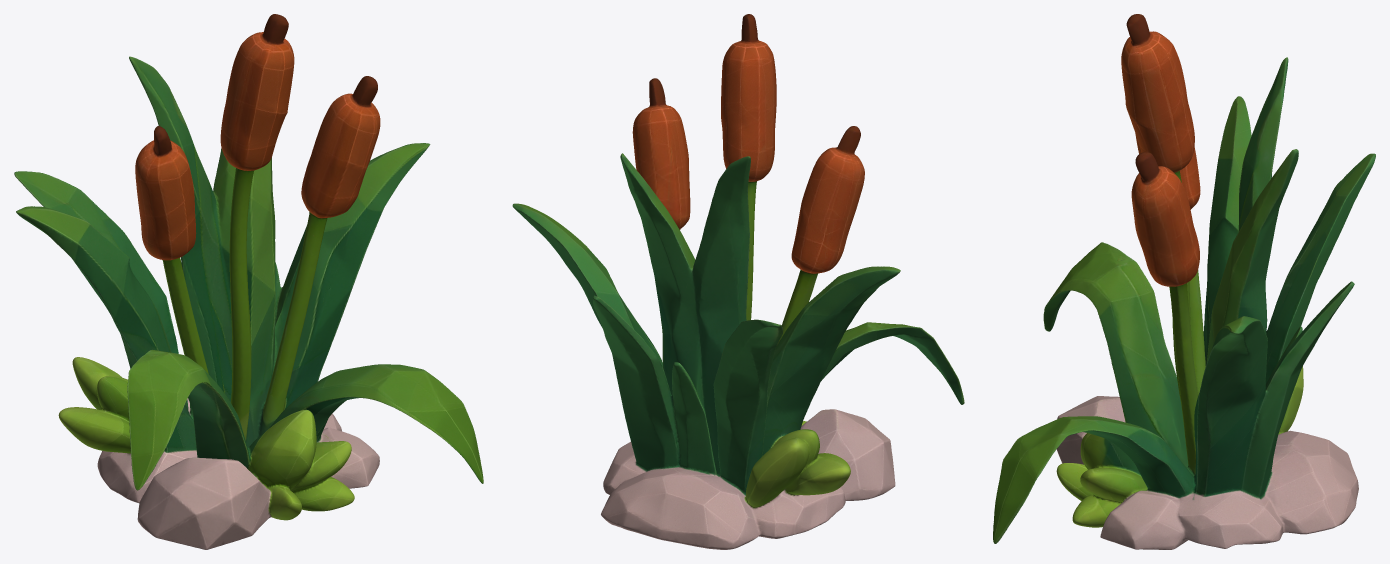
Rendered from meshy-froggy-cattail-grove.glb.
3 views of the same model, side by side, from view 1: azimuth 30°, elevation 25°; view 2: azimuth 150°, elevation 25°; view 3: azimuth 270°, elevation 25° (orthographic). The views are drawn at different scales.
Size of the model in its own units: 1.69 by 1.9 by 1.34.
1 material, 1 textured.
